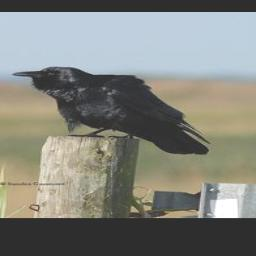Crow: (10, 66, 213, 156)
